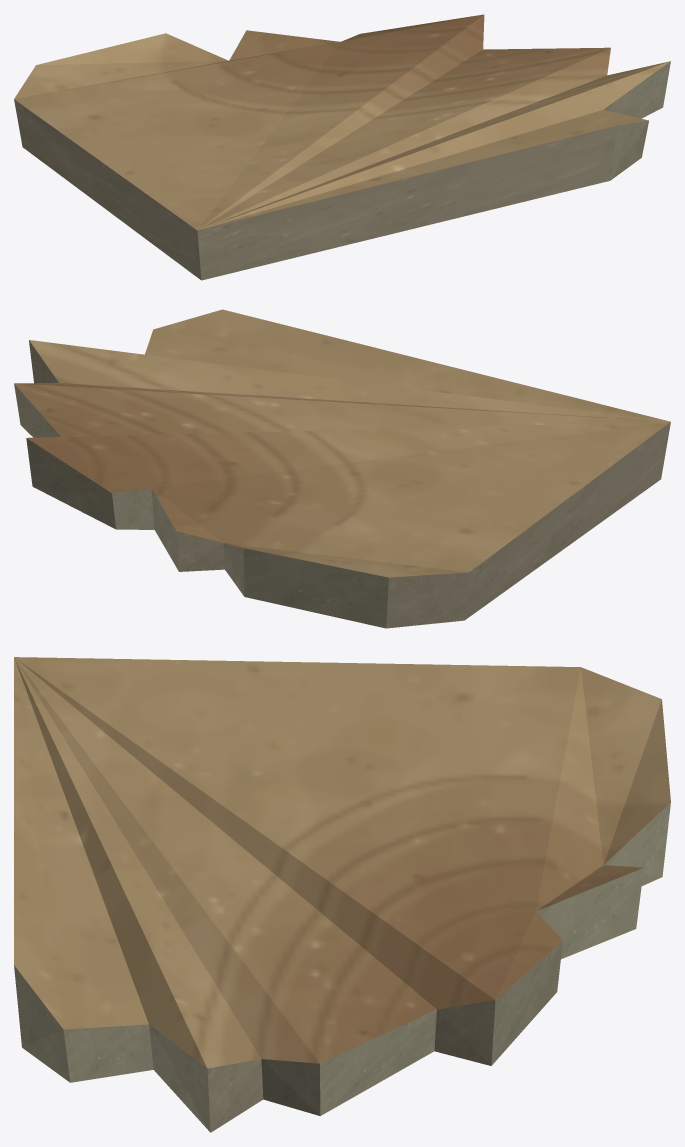
The model's file is debris_ceiling_tile_stained.glb.
The picture shows the model from 3 angles, top to bottom: view 1: azimuth 30°, elevation 25°; view 2: azimuth 150°, elevation 25°; view 3: azimuth 270°, elevation 25°; orthographic projection. The views are drawn at different scales.
Visible parts, largest first — view 1: Water-Stained Ceiling Tile; view 2: Water-Stained Ceiling Tile; view 3: Water-Stained Ceiling Tile.
Boxes of the visible parts, x1=… form: Water-Stained Ceiling Tile: x1=14, y1=14, x2=670, y2=280; Water-Stained Ceiling Tile: x1=14, y1=309, x2=670, y2=628; Water-Stained Ceiling Tile: x1=14, y1=657, x2=670, y2=1132.
Bounding box in the file's own units: 0.21 × 0.021 × 0.146.
Materials: 1 (1 with a texture image).
